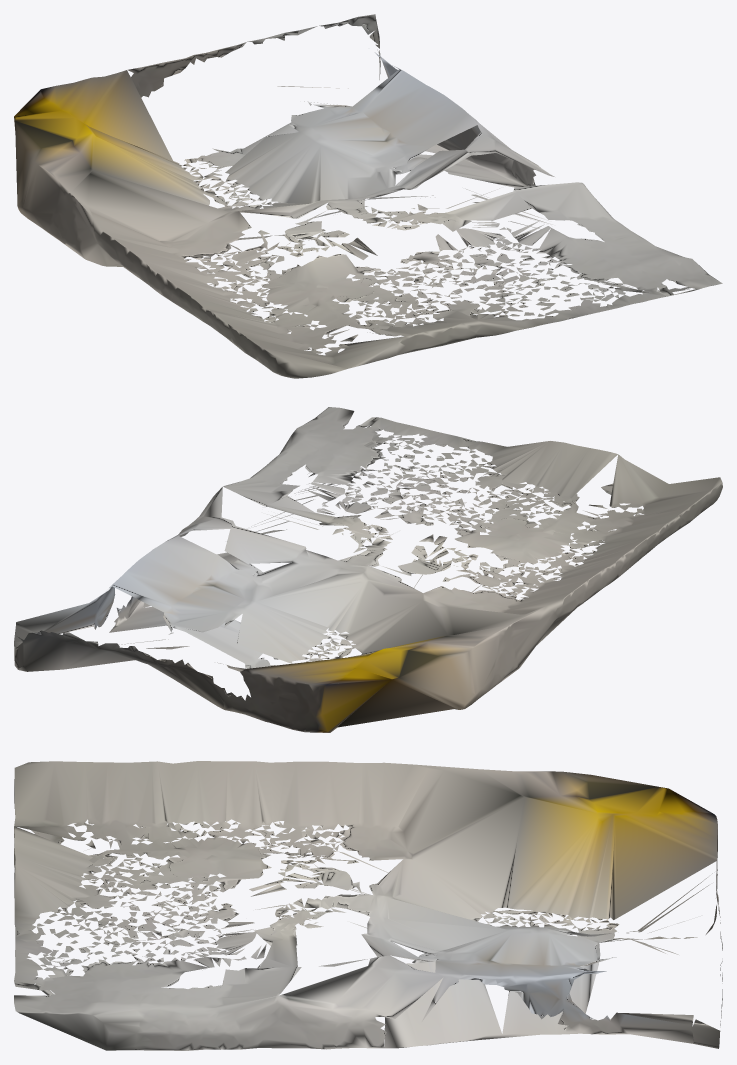
The model's file is Wall_4 - E101.gltf.
3 views of the same model, one above another, from view 1: azimuth 30°, elevation 25°; view 2: azimuth 150°, elevation 25°; view 3: azimuth 270°, elevation 25° (orthographic). The views are drawn at different scales.
Size of the model in its own units: 2.42 by 0.3633 by 3.27.
